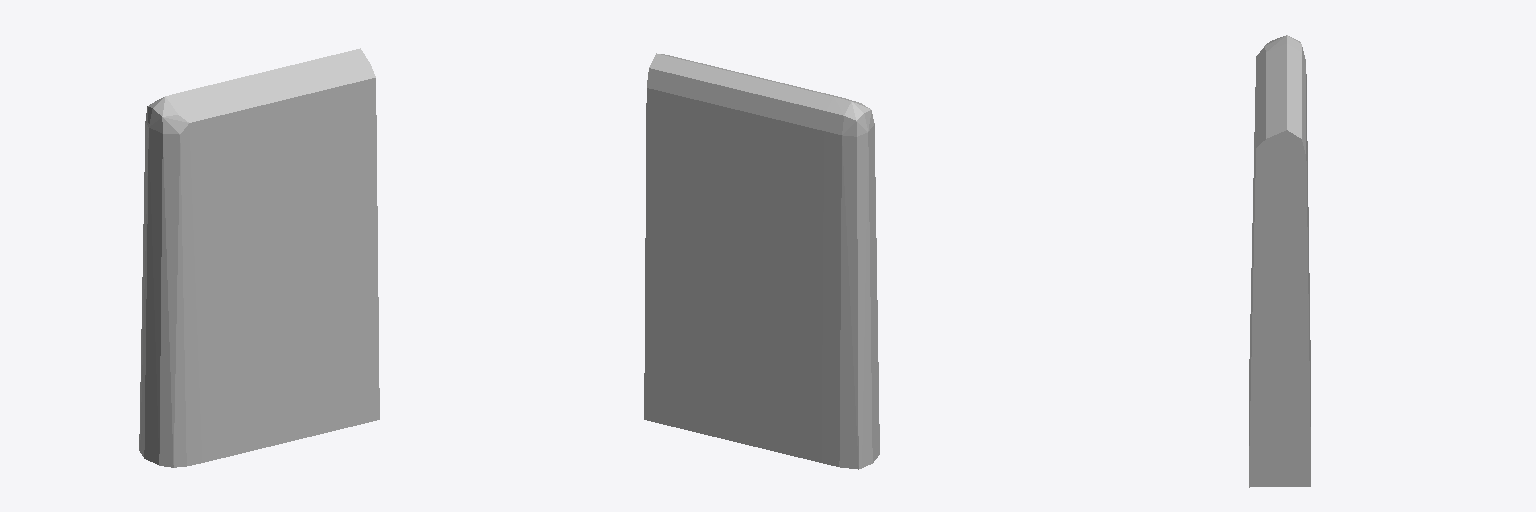
The model's file is ShipScene_collision_17.obj.
3 renders of one model, left to right at view 1: azimuth 30°, elevation 25°; view 2: azimuth 150°, elevation 25°; view 3: azimuth 270°, elevation 25°, orthographic.
Bounding box in the file's own units: 61.89 × 97.71 × 15.57.